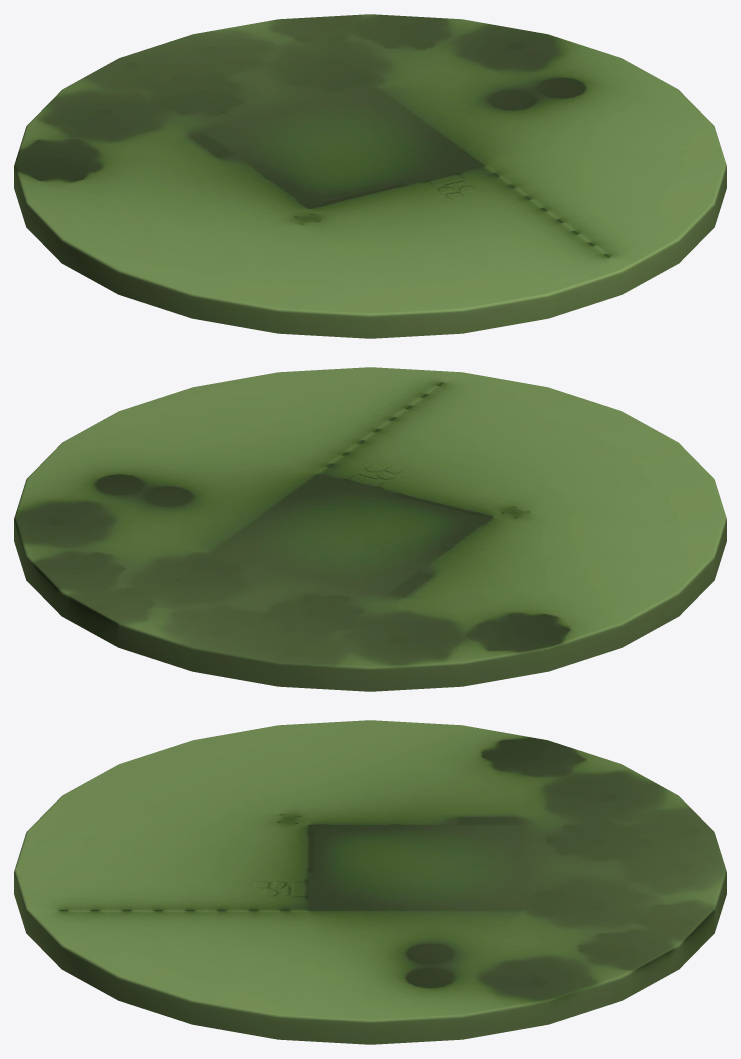
The model's file is house_moc2_recieve_ShadowBase2.glb.
3 renders of one model, top to bottom at view 1: azimuth 30°, elevation 25°; view 2: azimuth 150°, elevation 25°; view 3: azimuth 270°, elevation 25°, orthographic.
Parts seen in each view (by area): view 1: basebeta; view 2: basebeta; view 3: basebeta.
Part boxes in pixels (left/top/right/bottom): basebeta: left=14, top=14, right=726, bottom=338; basebeta: left=14, top=367, right=726, bottom=691; basebeta: left=14, top=720, right=726, bottom=1044.
Bounding box in the file's own units: 8.01 × 0.3003 × 8.01.
1 material, 1 textured.
